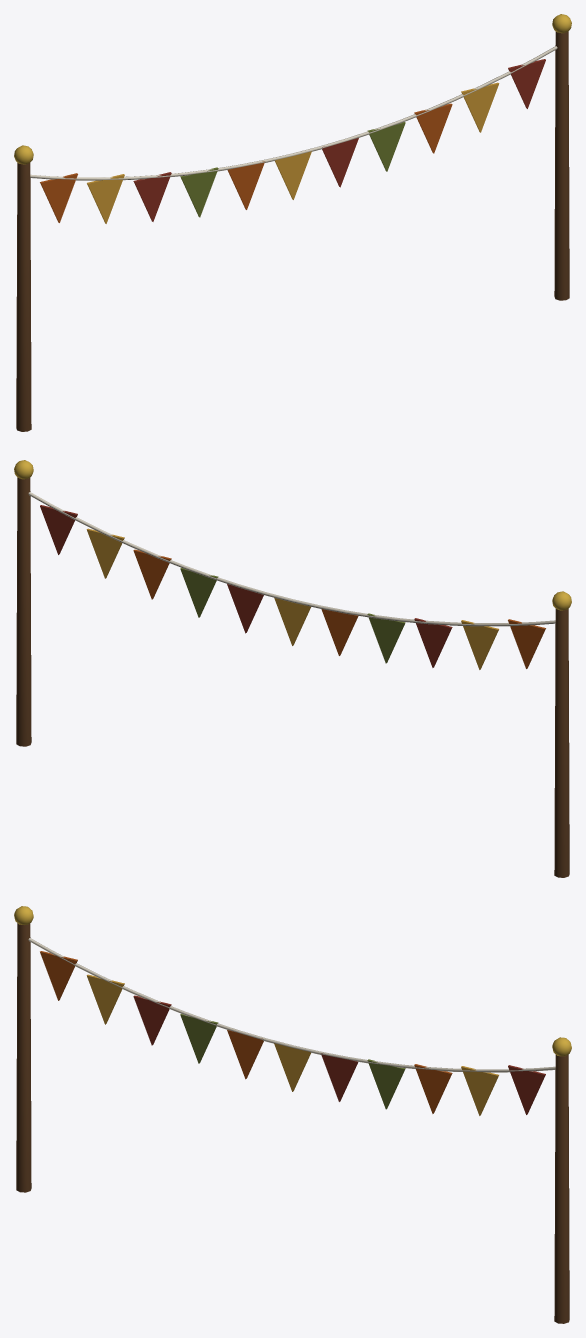
Rendered from bunting_harvest.glb.
3 views of the same model, one above another, from view 1: azimuth 30°, elevation 25°; view 2: azimuth 150°, elevation 25°; view 3: azimuth 330°, elevation 25° (orthographic).
Visible parts, largest first — view 1: bunting_harvest_main; view 2: bunting_harvest_main; view 3: bunting_harvest_main.
Boxes of the visible parts, x1,y1,x2,y2 form: bunting_harvest_main: [14, 14, 571, 431]; bunting_harvest_main: [14, 460, 571, 877]; bunting_harvest_main: [14, 906, 571, 1323].
Size of the model in its own units: 2.85 by 1.38 by 0.09.
